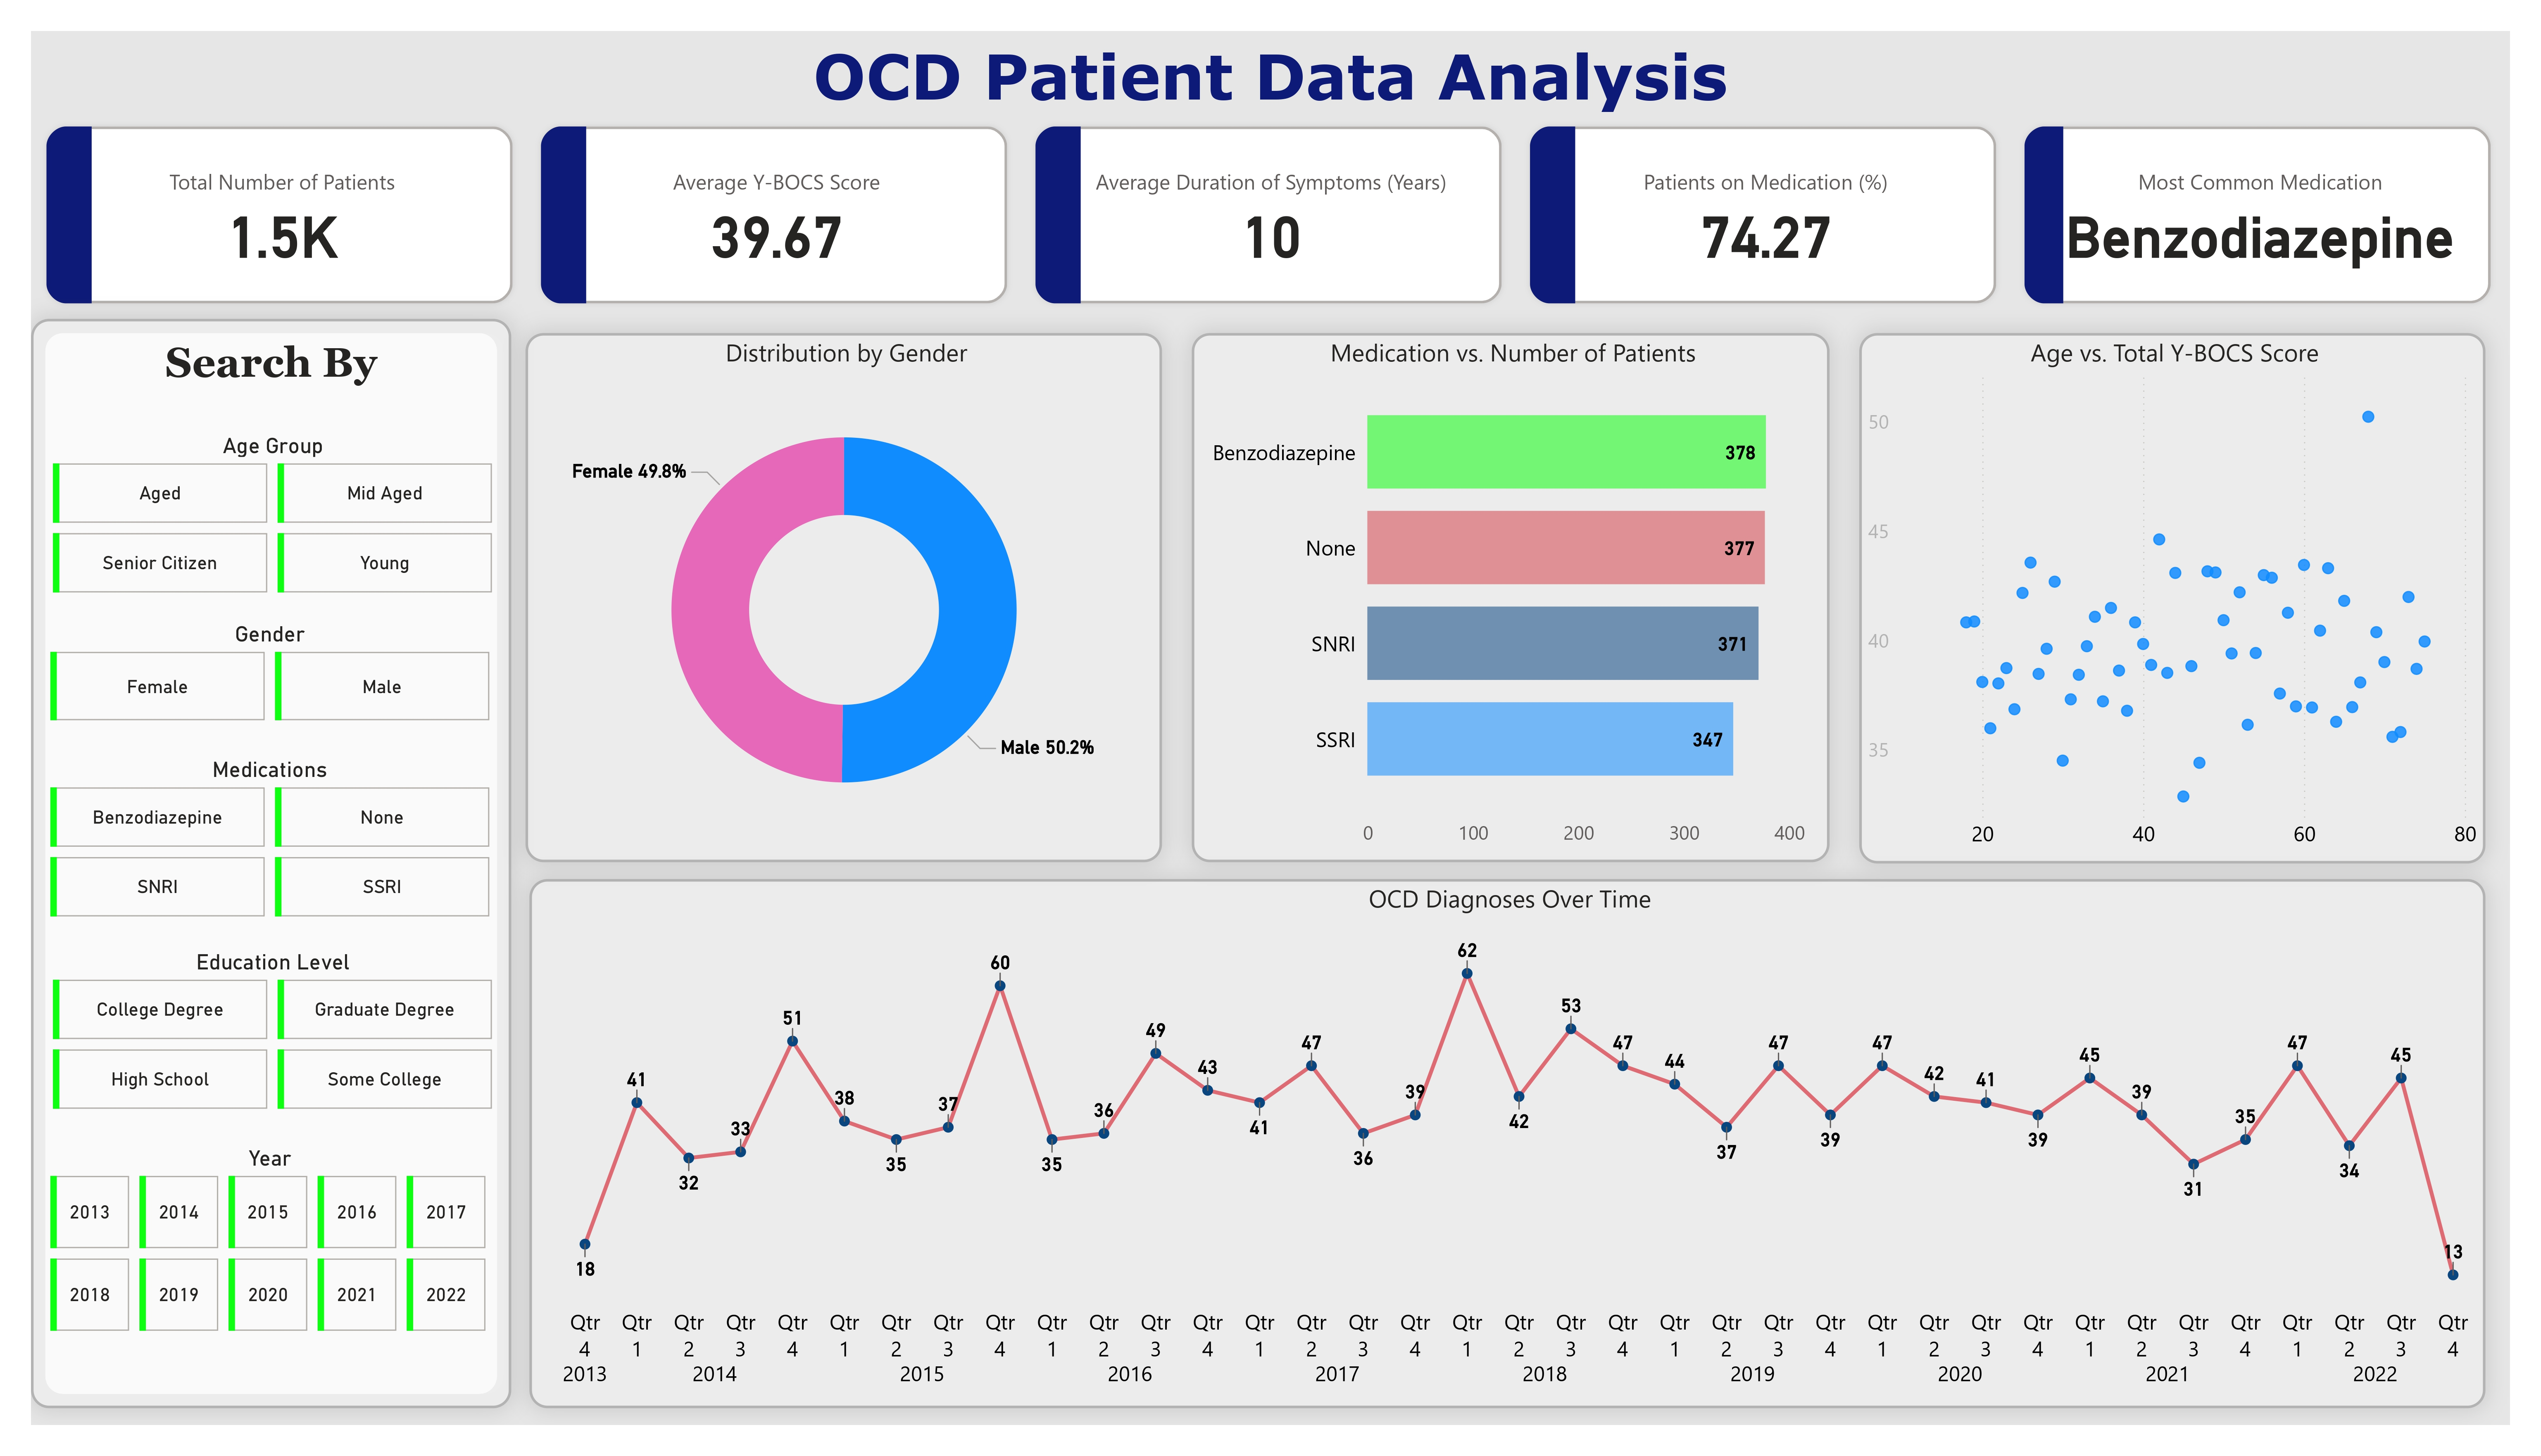

What the dashboard file says about the page in this screenshot:
{"tool":"powerbi","page":{"name":"Page 1","canvas":[1920,1080],"ordinal":0},"visuals":[{"type":"textbox","box":[0,0,1920,80],"z":0},{"type":"donutChart","title":"Distribution by Gender","fields":{"Category":["ocd_patient_dataset.Gender"],"Y":["CountNonNull(ocd_patient_dataset.Gender)"]},"box":[383.3,234.3,493.4,410],"z":0,"group":"g1"},{"type":"scatterChart","title":"Age vs. Total Y-BOCS Score","fields":{"Y":["Avg(ocd_patient_dataset.Total Y-BOCS Score)"],"X":["ocd_patient_dataset.Age"]},"box":[1416.2,234.3,485.2,410.8],"z":1000,"group":"g1"},{"type":"cardVisual","fields":{"Data":["CountNonNull(ocd_patient_dataset.Patient ID)","ocd_patient_dataset.Average Y-BOCS Score","Avg(ocd_patient_dataset.Duration of Symptoms (Years))","ocd_patient_dataset.Patients on Medication (%)","ocd_patient_dataset.Most Common Medication"]},"box":[0,61.9,1920,161],"z":1000},{"type":"clusteredBarChart","title":"Medication vs. Number of Patients","fields":{"Category":["ocd_patient_dataset.Medications"],"Y":["Count(ocd_patient_dataset.Patient ID)"]},"box":[899.8,234.4,493.4,410],"z":2000,"group":"g1"},{"type":"lineChart","title":"OCD Diagnoses Over Time","fields":{"Y":["CountNonNull(ocd_patient_dataset.Patient ID)"],"Category":["ocd_patient_dataset.OCD Diagnosis Date.Variation.Date Hierarchy.Year","ocd_patient_dataset.OCD Diagnosis Date.Variation.Date Hierarchy.Quarter"]},"box":[386.1,656.5,1515.4,410.8],"z":2000},{"type":"shape","box":[0,223,371.6,844.4],"z":3000},{"type":"textbox","box":[0,239.5,371.6,53.7],"z":4000},{"type":"advancedSlicerVisual","fields":{"Values":["ocd_patient_dataset.Age Group"]},"box":[11.8,310.9,350.9,130],"z":5000},{"type":"advancedSlicerVisual","fields":{"Values":["ocd_patient_dataset.Gender"]},"box":[10,457.3,350,82.7],"z":6000},{"type":"advancedSlicerVisual","fields":{"Values":["ocd_patient_dataset.Medications"]},"box":[10,561.8,350,130],"z":7000},{"type":"advancedSlicerVisual","fields":{"Values":["ocd_patient_dataset.OCD Diagnosis Date.Variation.Date Hierarchy.Year"]},"box":[10,862.7,350,150],"z":8000},{"type":"advancedSlicerVisual","fields":{"Values":["ocd_patient_dataset.Education Level"]},"box":[11.8,710.9,350.9,130],"z":9000},{"type":"group","id":"g1","title":"Group 1","box":[383.3,234.3,1518.1,410.9],"z":10000}]}

Visuals, with their boxes in screenshot pixels (x1, y1, x2, y2):
textbox: [31, 31, 2510, 134]
"Distribution by Gender" donutChart: [526, 333, 1163, 862]
"Age vs. Total Y-BOCS Score" scatterChart: [1860, 333, 2486, 864]
cardVisual - CountNonNull(ocd_patient_dataset.Patient ID) x ocd_patient_dataset.Average Y-BOCS Score: [31, 111, 2510, 319]
"Medication vs. Number of Patients" clusteredBarChart: [1193, 334, 1830, 863]
"OCD Diagnoses Over Time" lineChart: [530, 879, 2486, 1408]
shape: [31, 319, 511, 1409]
textbox: [31, 340, 511, 409]
advancedSlicerVisual - ocd_patient_dataset.Age Group: [46, 432, 499, 600]
advancedSlicerVisual - ocd_patient_dataset.Gender: [44, 621, 496, 728]
advancedSlicerVisual - ocd_patient_dataset.Medications: [44, 756, 496, 924]
advancedSlicerVisual - ocd_patient_dataset.OCD Diagnosis Date.Variation.Date Hierarchy.Year: [44, 1145, 496, 1338]
advancedSlicerVisual - ocd_patient_dataset.Education Level: [46, 949, 499, 1116]
"Group 1" group: [526, 333, 2486, 864]
